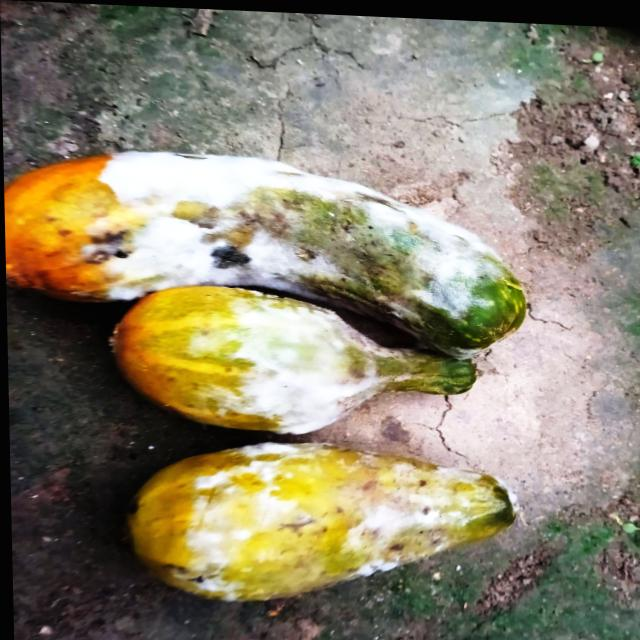Pythium-Fruit-Rot: (94, 142, 487, 331), (184, 437, 466, 600), (217, 288, 387, 438)
